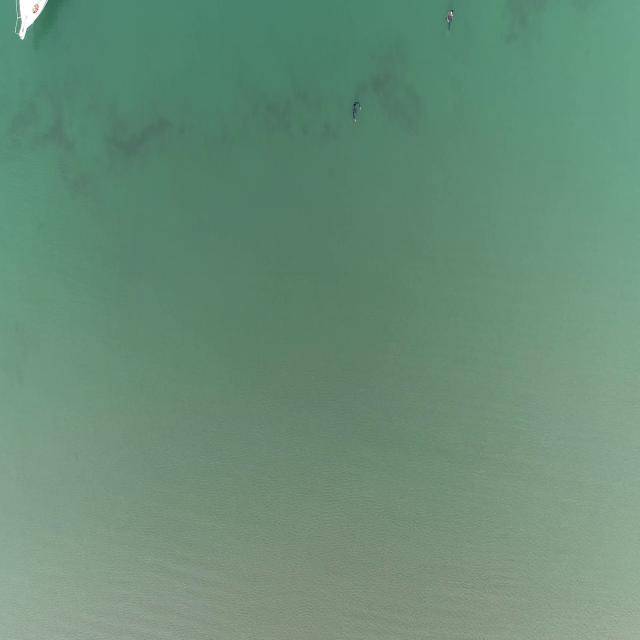person: (350, 101, 363, 123), (445, 9, 456, 32)
